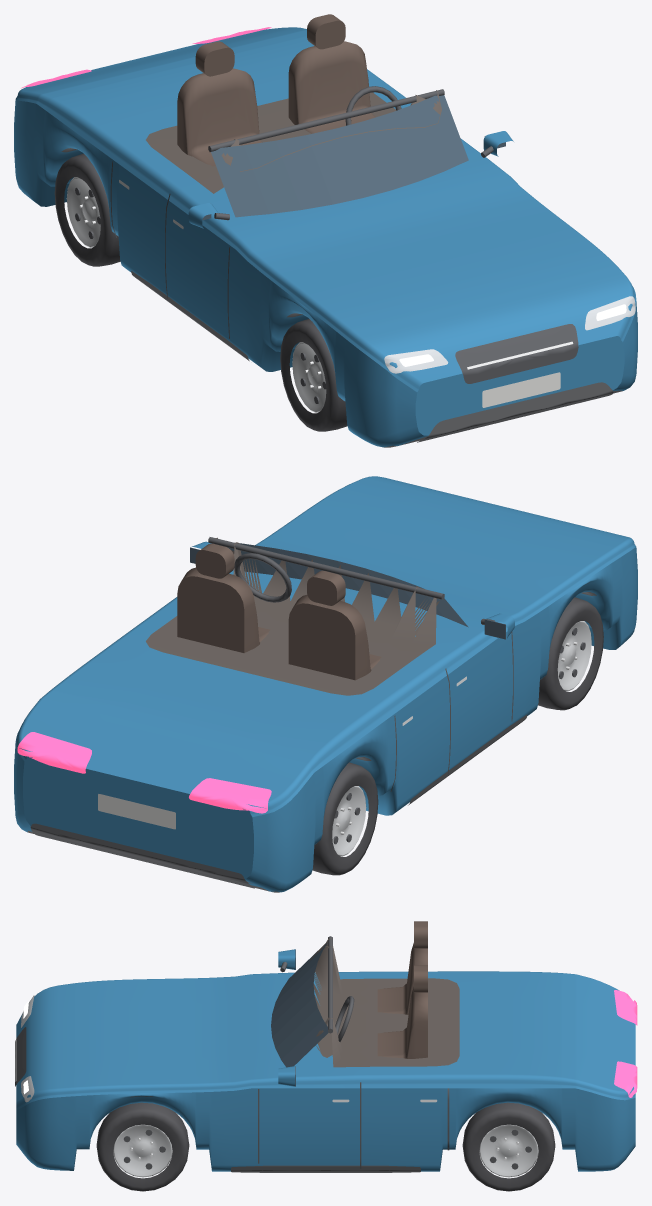
Rendered from car-convertible.glb.
3 renders of one model, top to bottom at view 1: azimuth 30°, elevation 25°; view 2: azimuth 150°, elevation 25°; view 3: azimuth 270°, elevation 25°, orthographic. The views are drawn at different scales.
Parts seen in each view (by area): view 1: car-convertible; view 2: car-convertible; view 3: car-convertible.
Boxes of the visible parts, x1,y1,x2,y2 form: car-convertible: (14, 14, 637, 447); car-convertible: (14, 476, 637, 892); car-convertible: (15, 921, 637, 1191).
Size of the model in its own units: 2.12 by 1.52 by 4.43.
